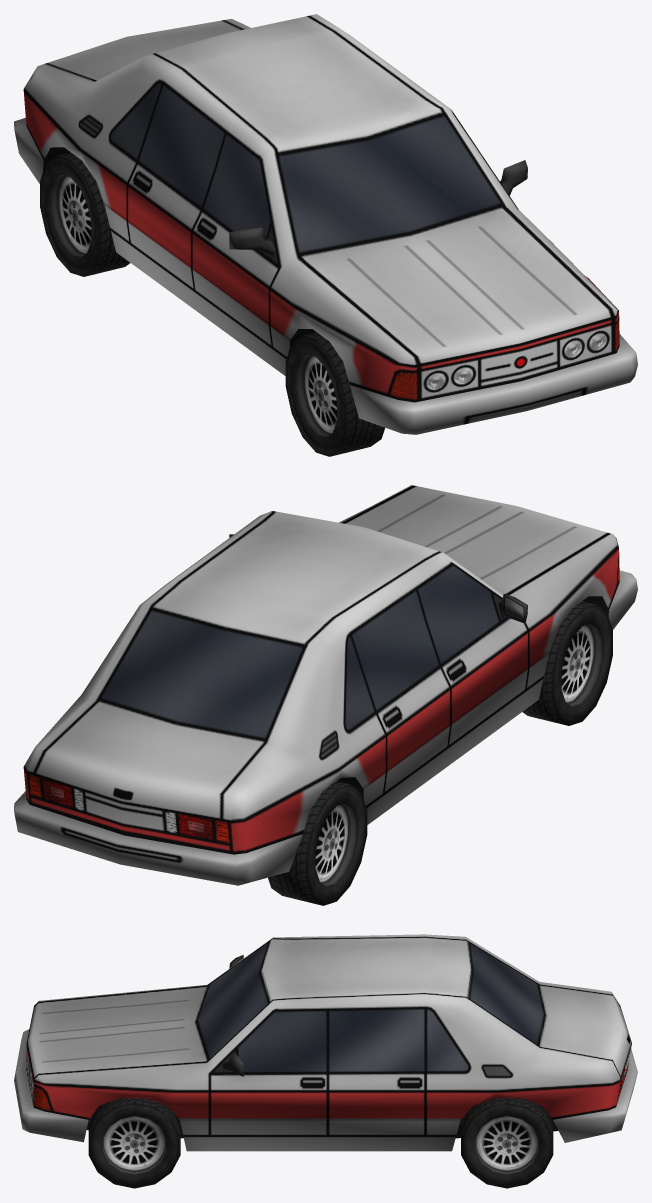
Rendered from PFB-Vehicle-04.fbx.
3 renders of one model, top to bottom at view 1: azimuth 30°, elevation 25°; view 2: azimuth 150°, elevation 25°; view 3: azimuth 270°, elevation 25°, orthographic. The views are drawn at different scales.
Visible parts, largest first — view 1: vehicle-04, vehicle-04-wheel-FR, vehicle-04-wheel-BR; view 2: vehicle-04, vehicle-04-wheel-BR, vehicle-04-wheel-FR; view 3: vehicle-04, vehicle-04-wheel-BL, vehicle-04-wheel-FL.
Boxes of the visible parts, x1,y1,x2,y2 form: vehicle-04: (14,14,637,434); vehicle-04-wheel-FR: (285,332,384,456); vehicle-04-wheel-BR: (40,152,130,276); vehicle-04: (14,485,637,885); vehicle-04-wheel-BR: (268,781,367,905); vehicle-04-wheel-FR: (522,601,612,725); vehicle-04: (14,934,637,1151); vehicle-04-wheel-BL: (461,1098,553,1188); vehicle-04-wheel-FL: (88,1098,180,1188).
Size of the model in its own units: 314 by 232 by 755.
